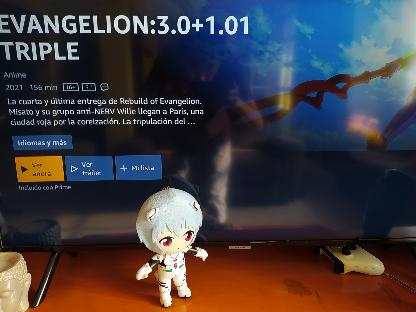rei-plush: (136, 185, 210, 305)
